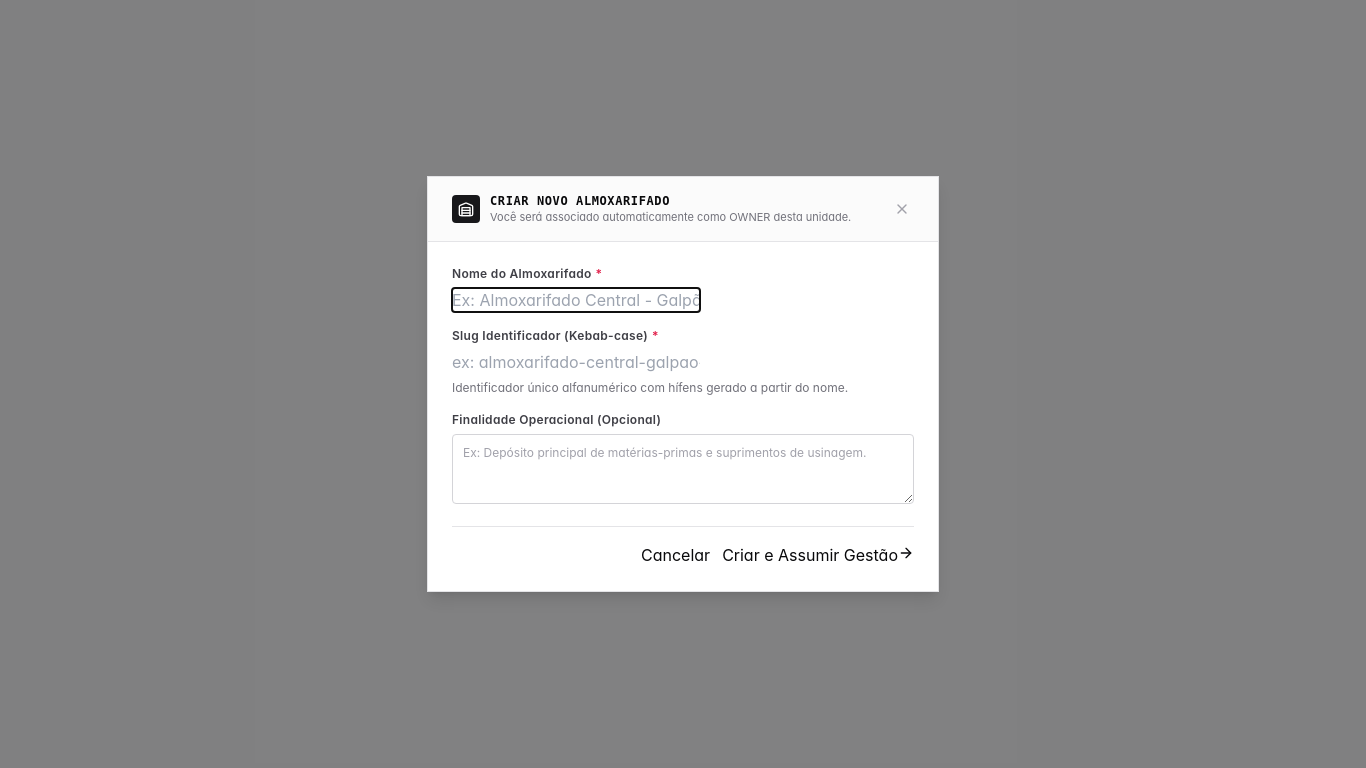
Test: CreateTenantModal (FT-07) › valida campos obrigatórios e formato de slug
Click the button "Criar e Assumir Gestão" at (818, 555), box [722,543,914,567]
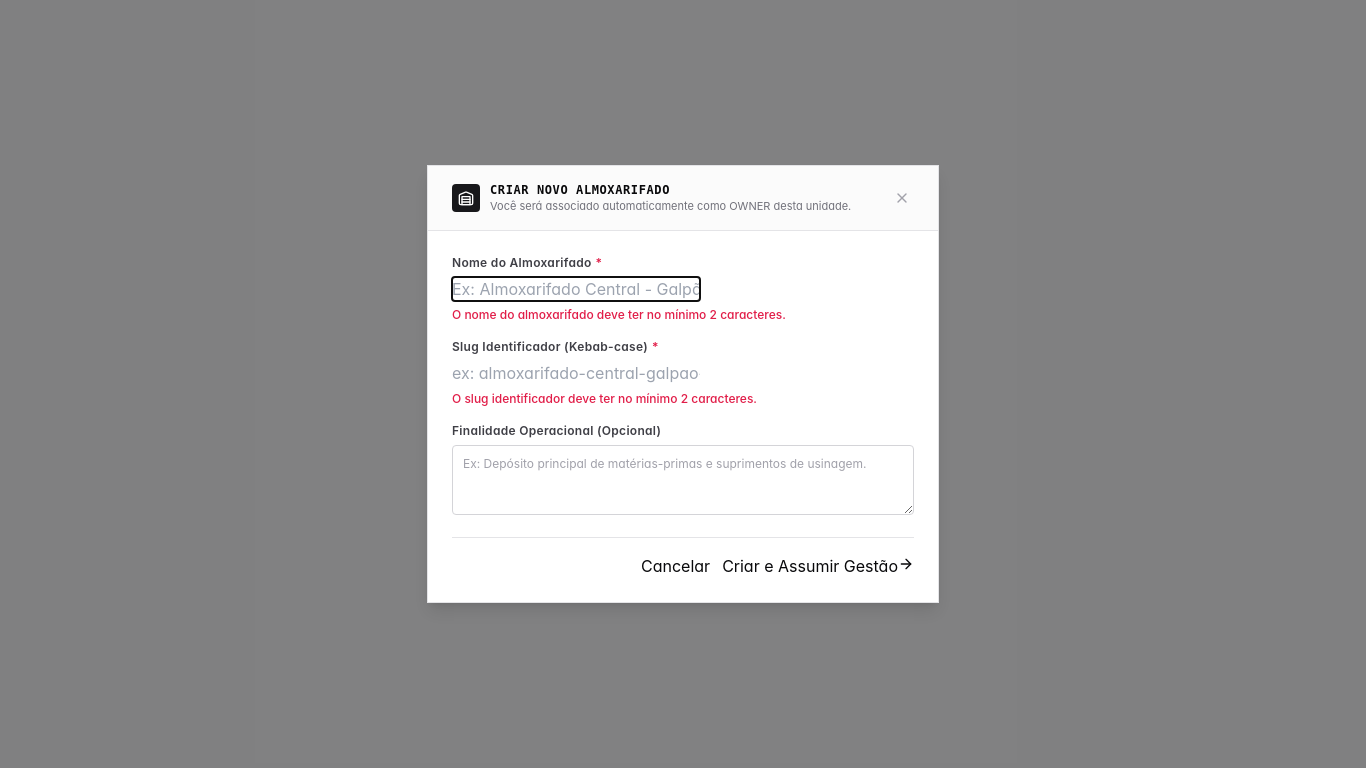
expect the text "O nome do almoxarifado deve ter no mínimo 2 caracteres." is shown: met, box [452,307,786,322]
Type "Depósito" into the field labelled "Nome do Almoxarifado*" at (576, 289), box [452,277,700,301]
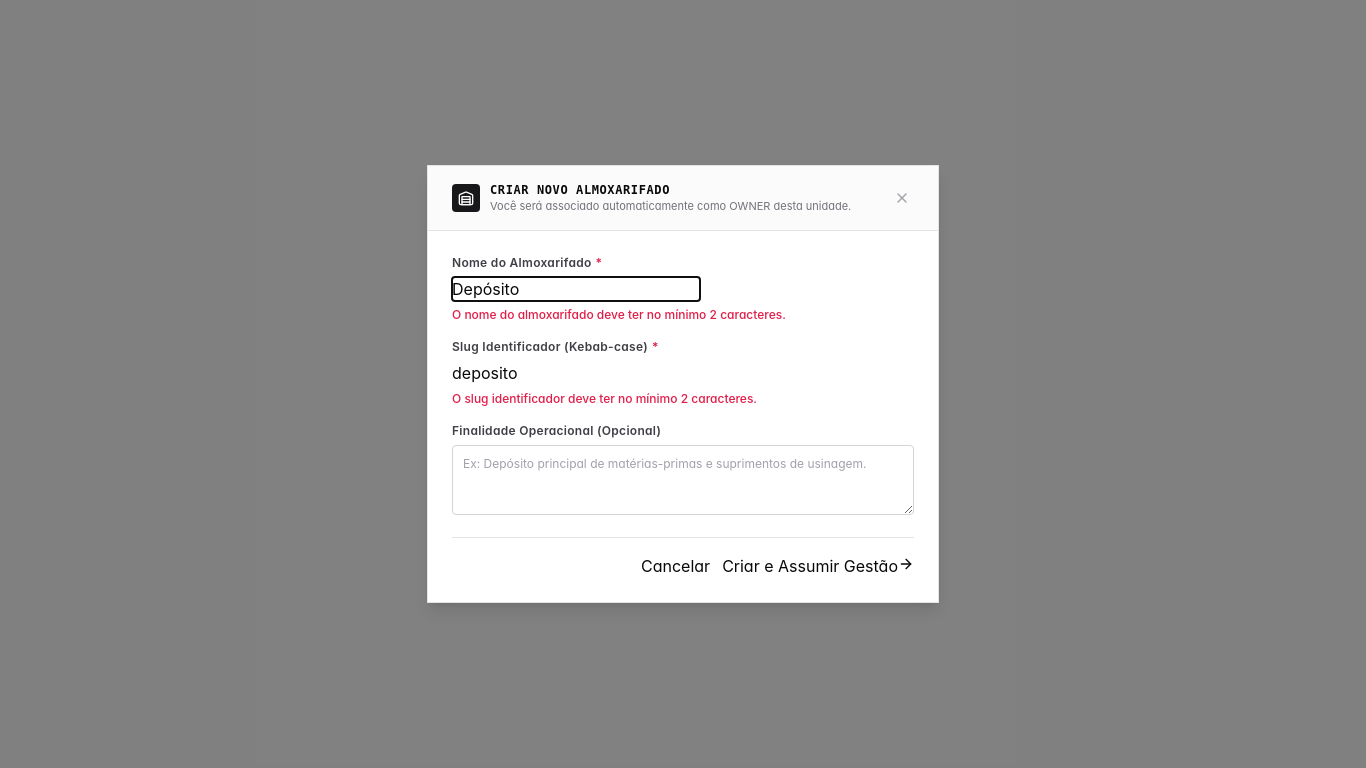
Replace the text in the field labelled "Slug Identificador (Kebab-case)*" with "slug COM MAIÚSCULA!" at (576, 373), box [452,361,700,385]
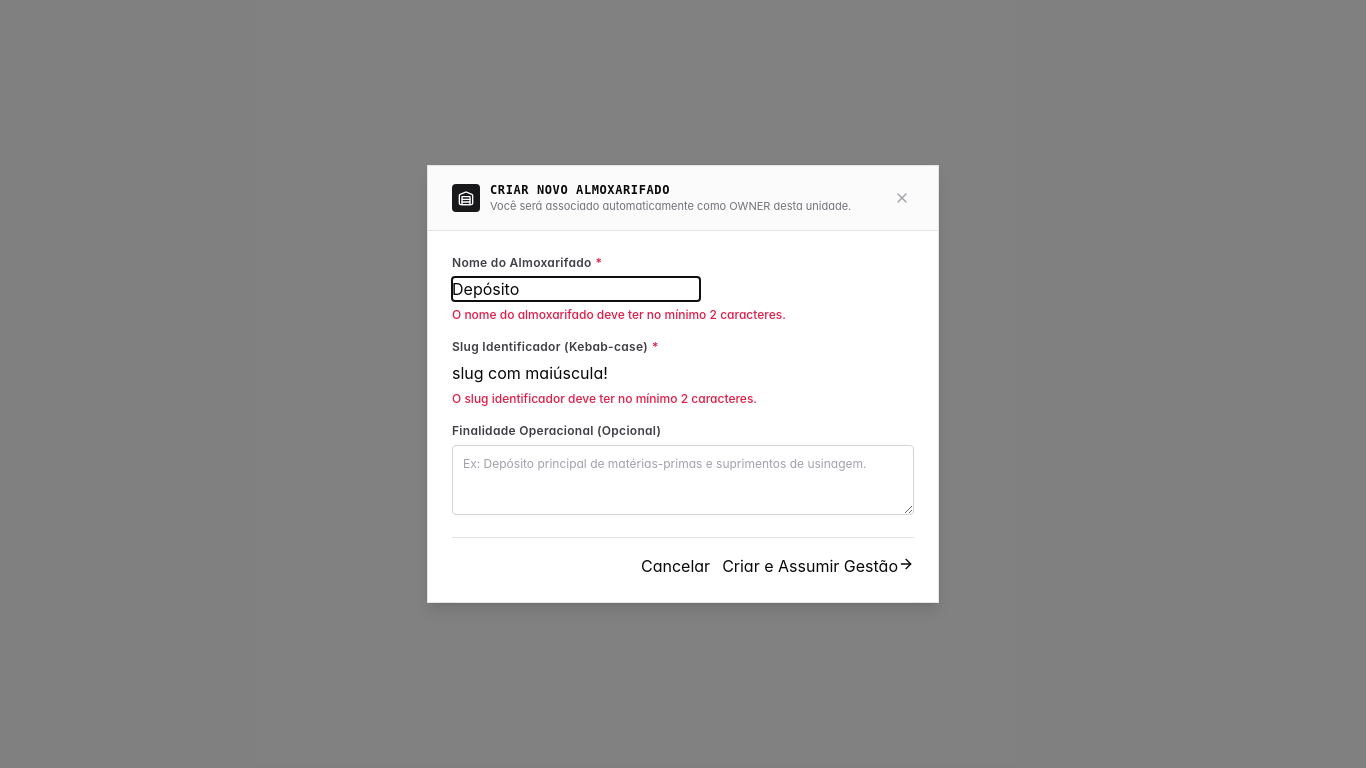
Click the button "Criar e Assumir Gestão" at (818, 566), box [722,554,914,578]
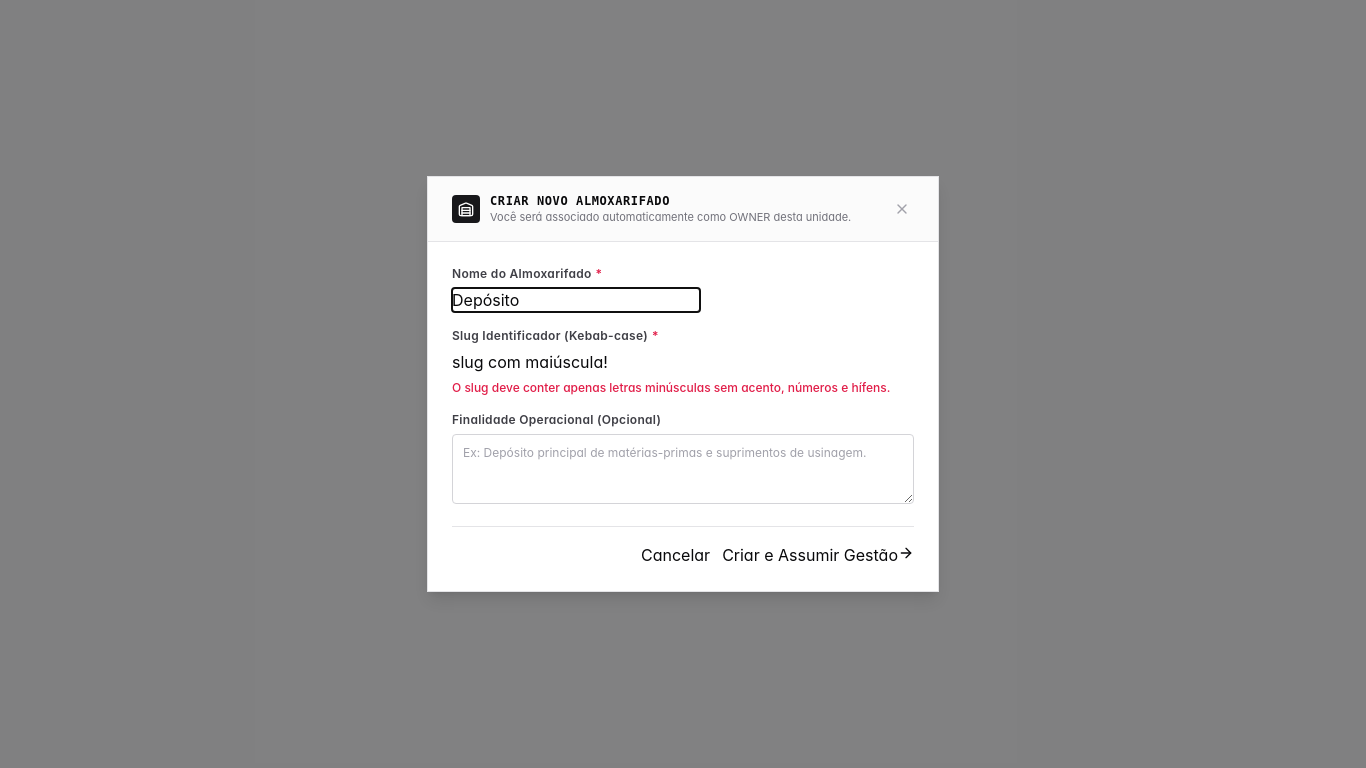
expect the text "O slug deve conter apenas letras minúsculas sem acento, números e hífens" is shown: met, box [452,380,890,395]
